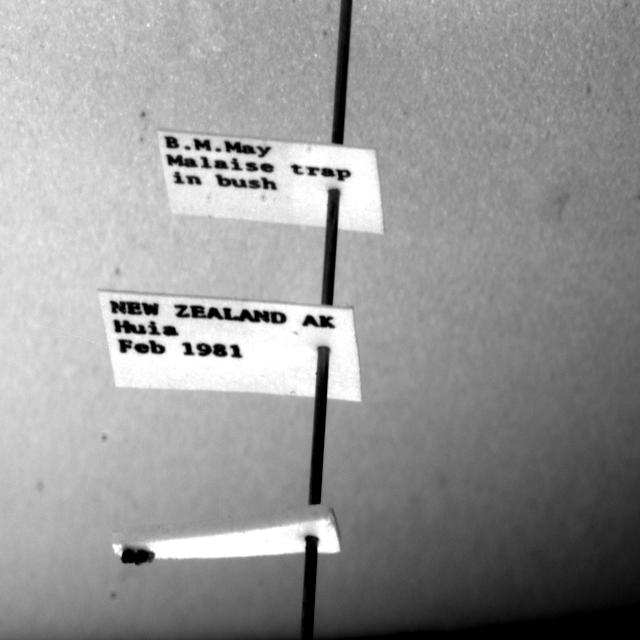typed_label: (99, 291, 361, 401), (158, 129, 384, 234)
